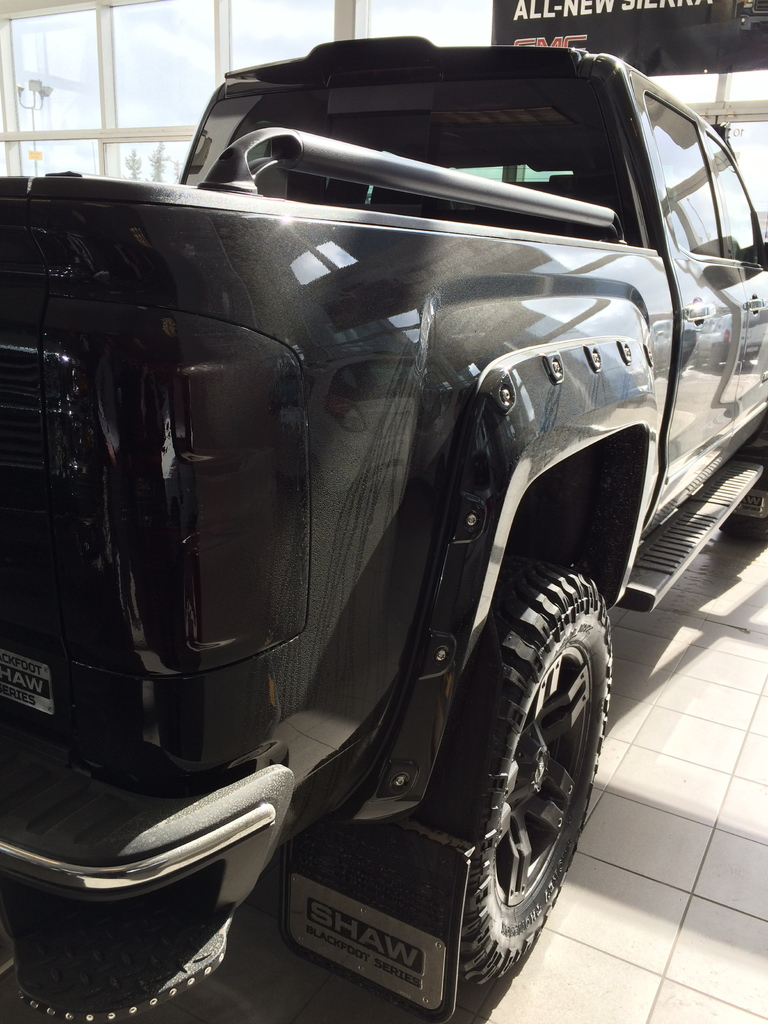car: (1, 36, 747, 1010)
